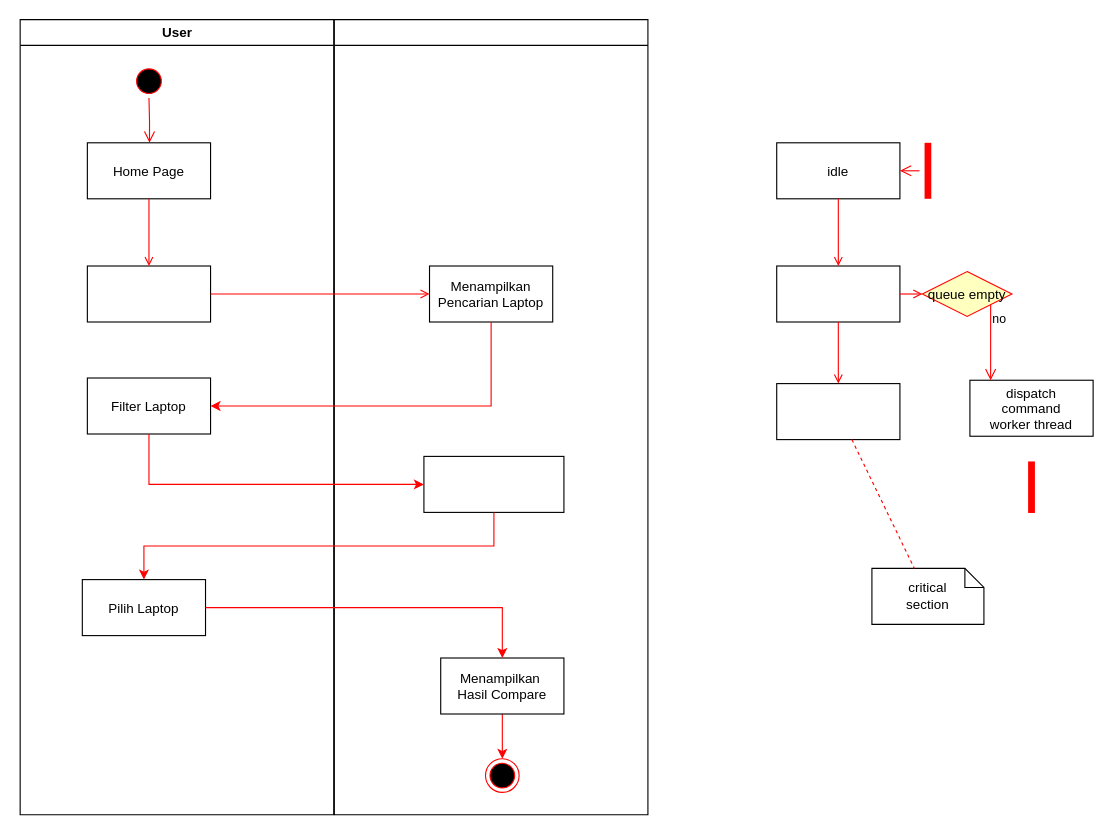
Some shapes in this 1112 by 834 pixel diagram are drawn without their labels. Each missing label, with the box of its shape:
Cari Laptop: (86, 265, 211, 322)
check for new commands: (776, 265, 900, 322)
command queue: (776, 382, 900, 440)
Menampilkan Hasil Filter Pencarian: (423, 455, 564, 512)
Sistem: (333, 18, 648, 815)
